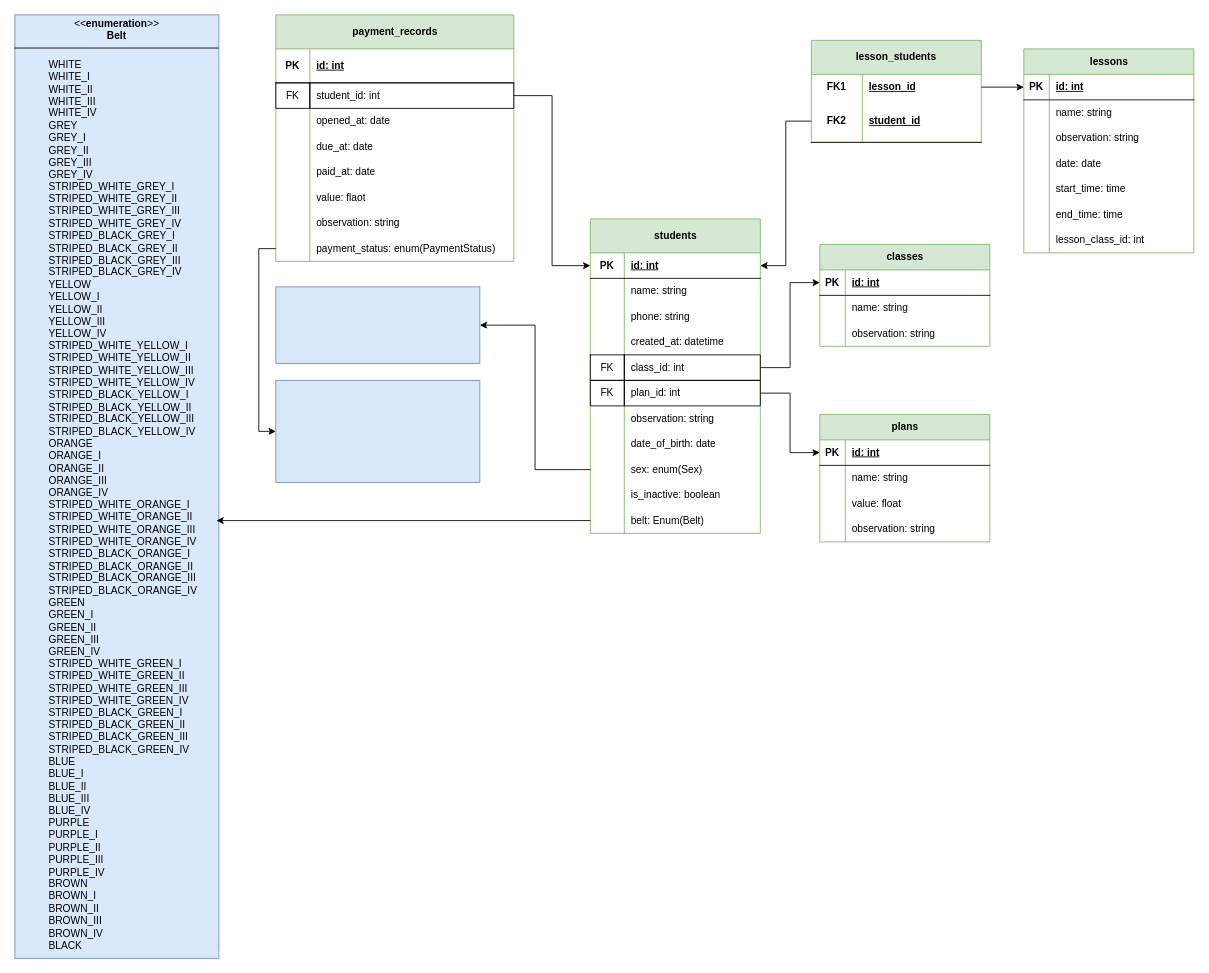
Image size: 1209x973. Some labels were removed from this diagram. The shapes that lost their labels are listed below. From the top down, each one's centre as x and y in pixels, then its label:
At (377,324): "<< enumeration >> Sex Male Female".
At (377,431): "<< enumeration >> PaymentStatus OPEN PAID OVERDUE FORGIVEN".
